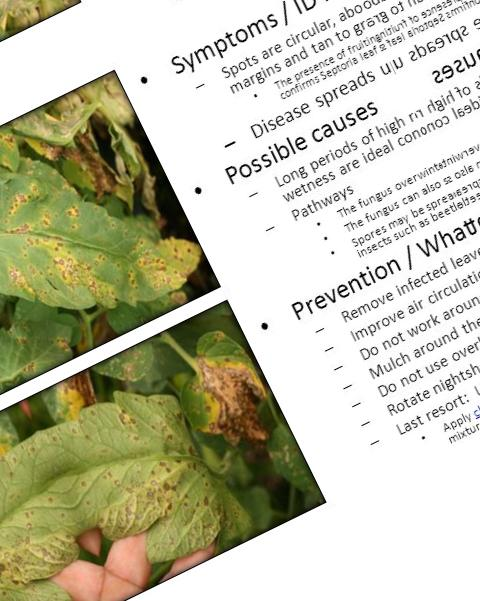Tomato Septoria leaf spot: (0, 110, 212, 370), (36, 365, 247, 592), (143, 312, 290, 480)
